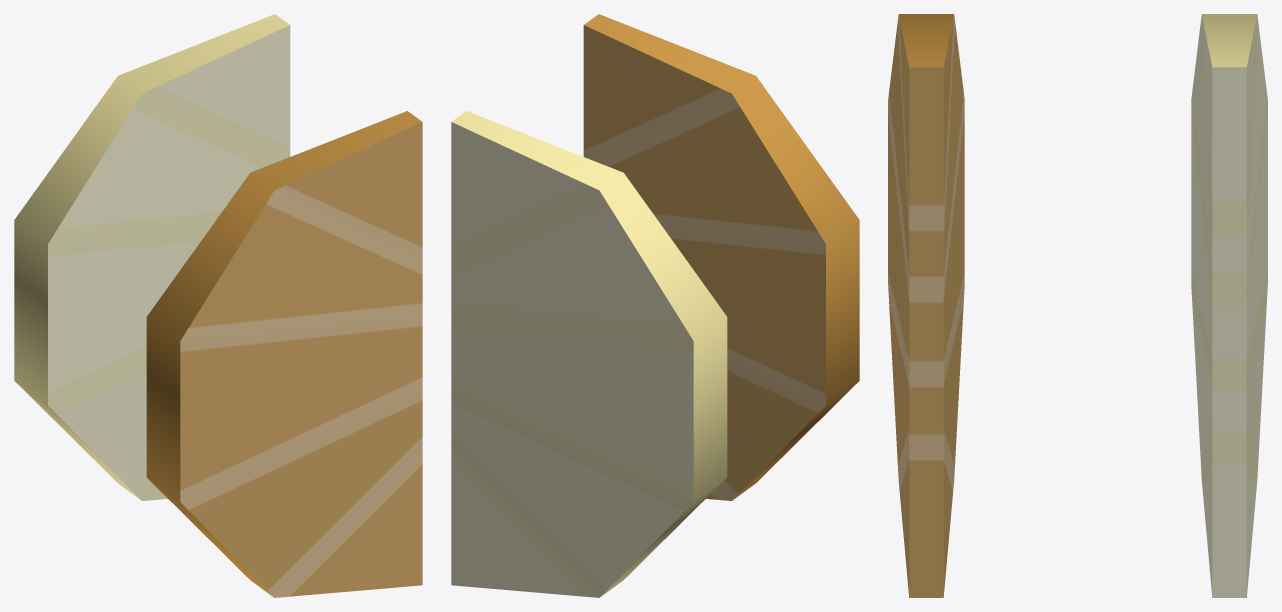
The model's file is Slices.FBX.
3 views of the same model, side by side, from view 1: azimuth 30°, elevation 25°; view 2: azimuth 150°, elevation 25°; view 3: azimuth 270°, elevation 25° (orthographic). The views are drawn at different scales.
Visible parts, largest first — view 1: Cylinder002, Cylinder009; view 2: Cylinder009, Cylinder002; view 3: Cylinder002, Cylinder009.
Boxes of the visible parts, <box> form: Cylinder002: <box>146,111,422,597</box>; Cylinder009: <box>14,14,290,500</box>; Cylinder009: <box>451,111,727,597</box>; Cylinder002: <box>583,14,859,500</box>; Cylinder002: <box>888,14,964,597</box>; Cylinder009: <box>1191,14,1267,597</box>.
Bounding box in the file's own units: 21.78 × 38.35 × 24.87.
